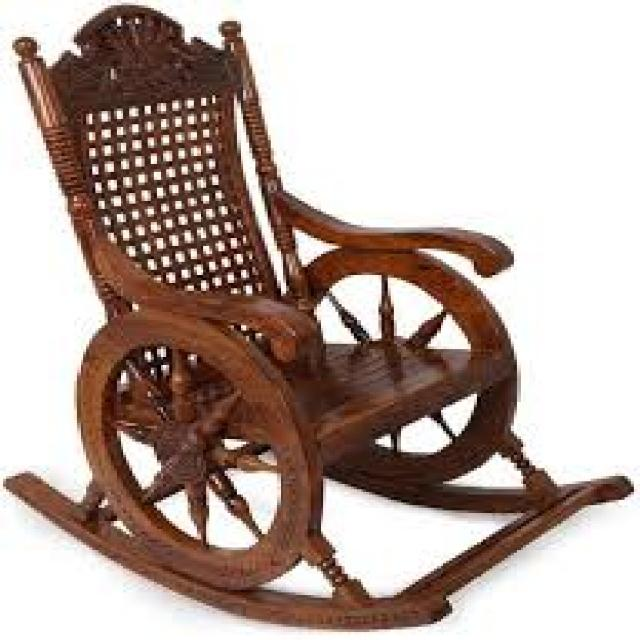chair: (15, 2, 635, 635)
